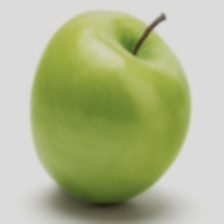apple: (10, 14, 200, 204)
